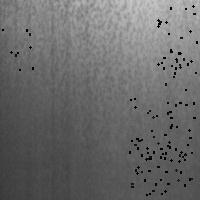pitted_surface: (2, 3, 198, 128), (129, 98, 189, 158), (131, 134, 191, 194), (157, 5, 200, 63), (161, 57, 200, 117), (0, 19, 32, 74)
